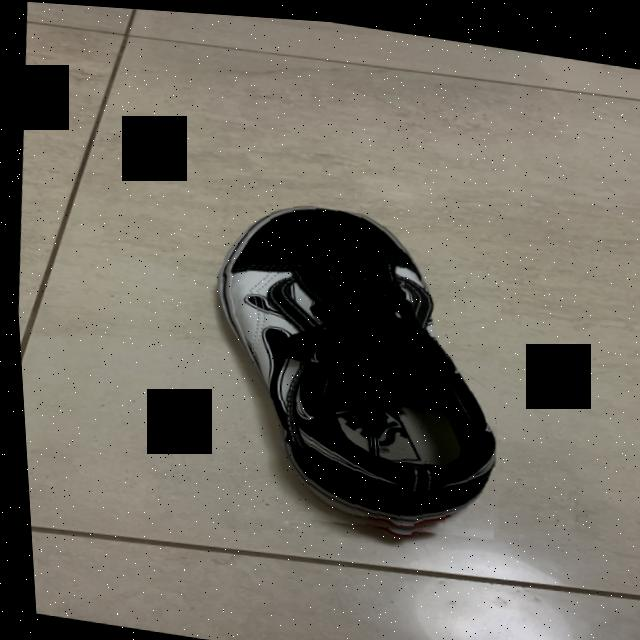shoe: (183, 187, 514, 547)
